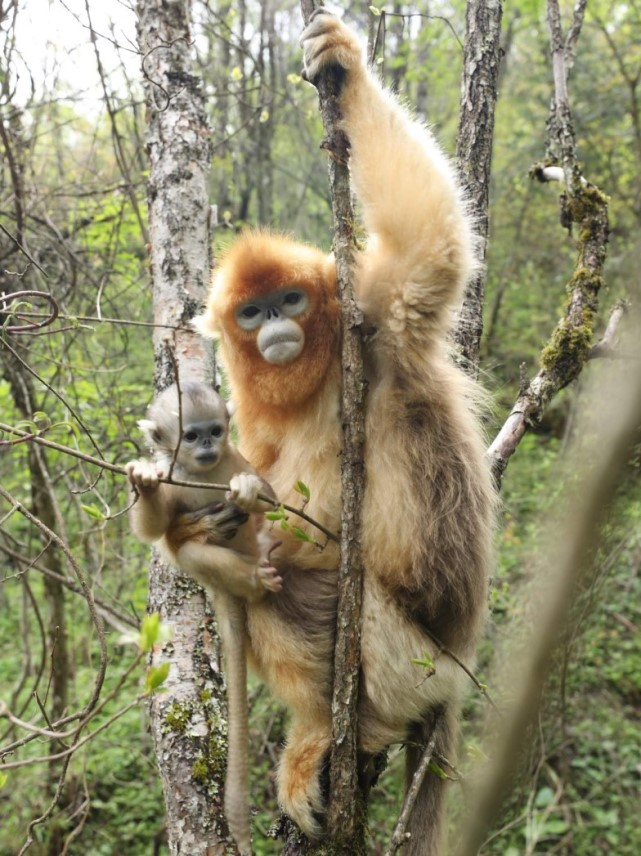GoldenSnub-Nosed: (198, 212, 498, 735), (105, 385, 302, 602)
